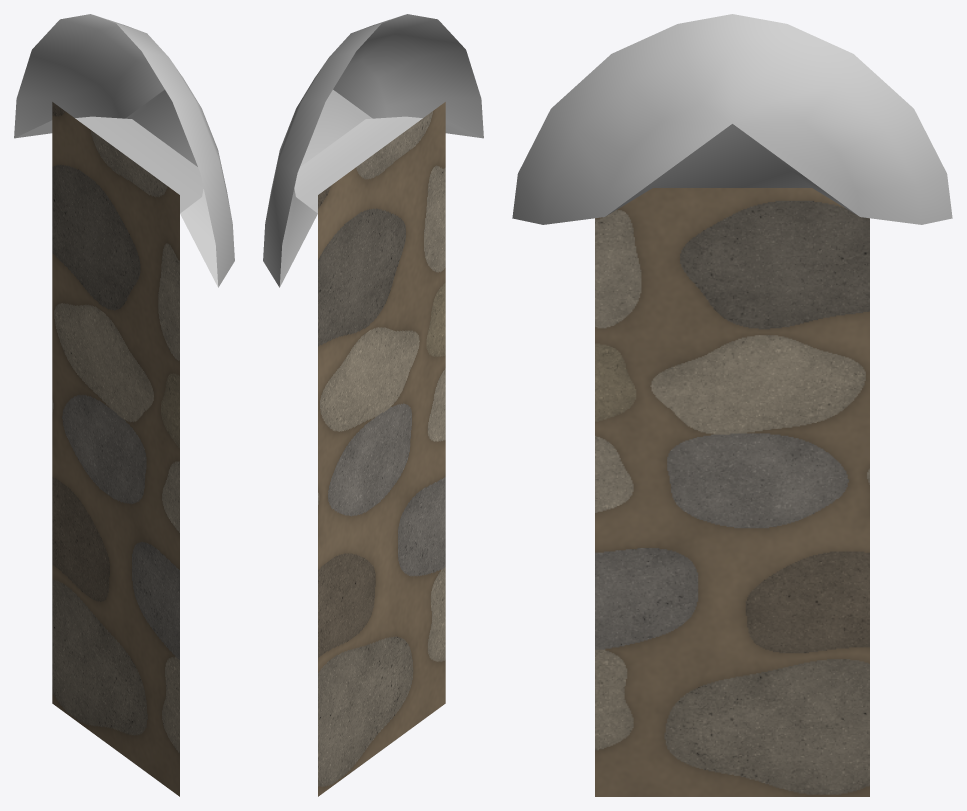
The model's file is Hanok_ChogaWall_End_01.fbx.
3 renders of one model, left to right at view 1: azimuth 30°, elevation 25°; view 2: azimuth 150°, elevation 25°; view 3: azimuth 270°, elevation 25°, orthographic. The views are drawn at different scales.
Visible parts, largest first — view 1: Wall_Choga_End_01; view 2: Wall_Choga_End_01; view 3: Wall_Choga_End_01.
Boxes of the visible parts, x1,y1,x2,y2 form: Wall_Choga_End_01: [14, 14, 234, 796]; Wall_Choga_End_01: [263, 14, 483, 796]; Wall_Choga_End_01: [512, 14, 952, 796].
Bounding box in the file's own units: 0.15 × 1.57 × 0.8.
